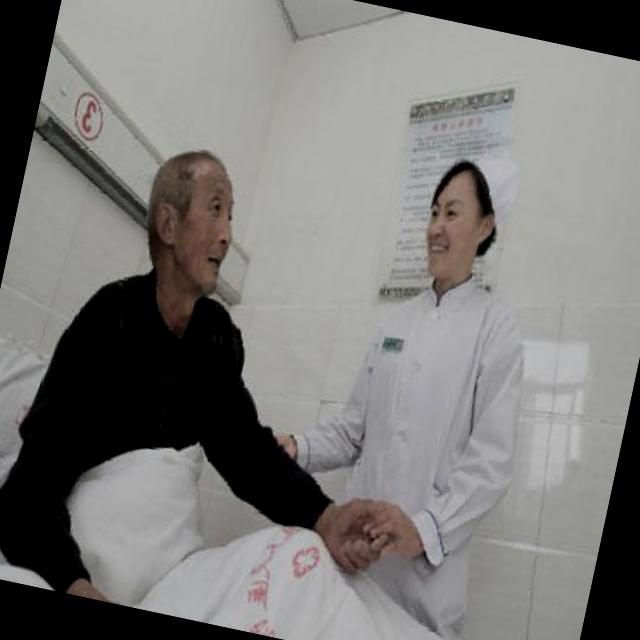Person: (0, 108, 349, 631), (288, 128, 556, 612)
